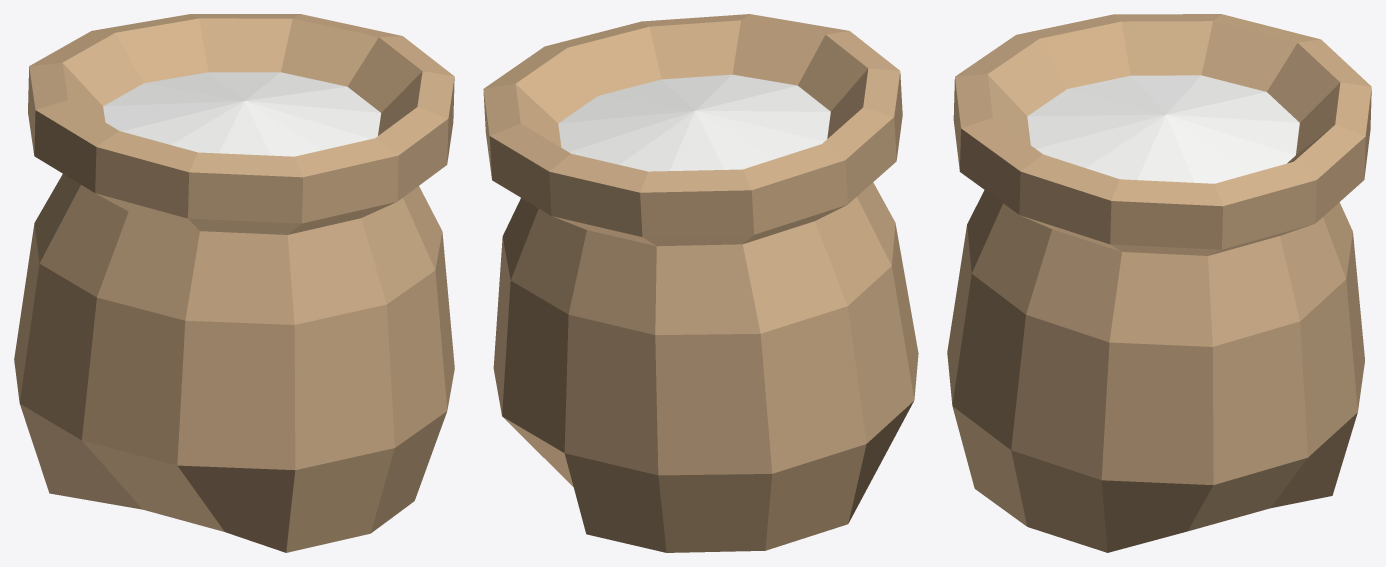
File: sack3.fbx
3 renders of one model, left to right at view 1: azimuth 30°, elevation 25°; view 2: azimuth 150°, elevation 25°; view 3: azimuth 270°, elevation 25°, orthographic. The views are drawn at different scales.
Parts seen in each view (by area): view 1: Sack_Right; view 2: Sack_Right; view 3: Sack_Right.
Part boxes in pixels (box(x1,y1,x2,y2)): Sack_Right: box(14, 14, 454, 552); Sack_Right: box(483, 14, 918, 552); Sack_Right: box(947, 14, 1371, 552).
Size of the model in its own units: 53.52 by 52.79 by 51.9.
